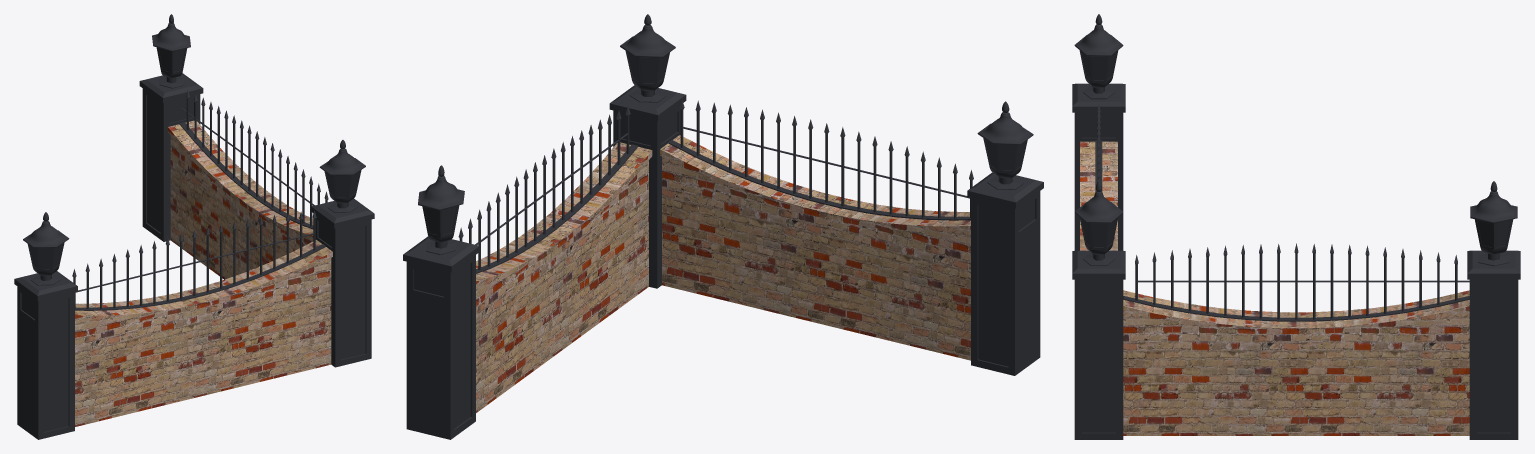
The model's file is cerca.obj.
3 views of the same model, side by side, from view 1: azimuth 30°, elevation 25°; view 2: azimuth 150°, elevation 25°; view 3: azimuth 270°, elevation 25° (orthographic). The views are drawn at different scales.
Visible parts, largest first — view 1: cercaaaa; view 2: cercaaaa; view 3: cercaaaa.
Boxes of the visible parts, box(x1,y1,x2,y2) form: cercaaaa: box(14, 14, 374, 439); cercaaaa: box(403, 14, 1043, 439); cercaaaa: box(1072, 14, 1520, 439).
Size of the model in its own units: 277 by 169 by 277.
2 materials, 1 textured.
